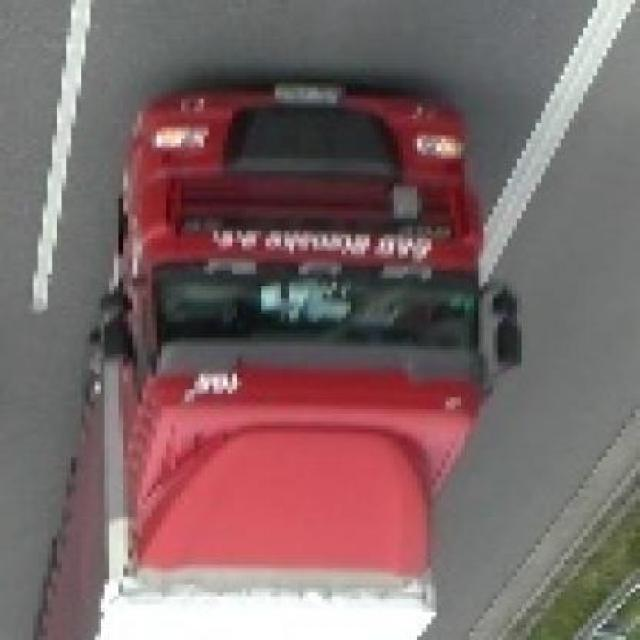truck: (33, 84, 518, 640)
